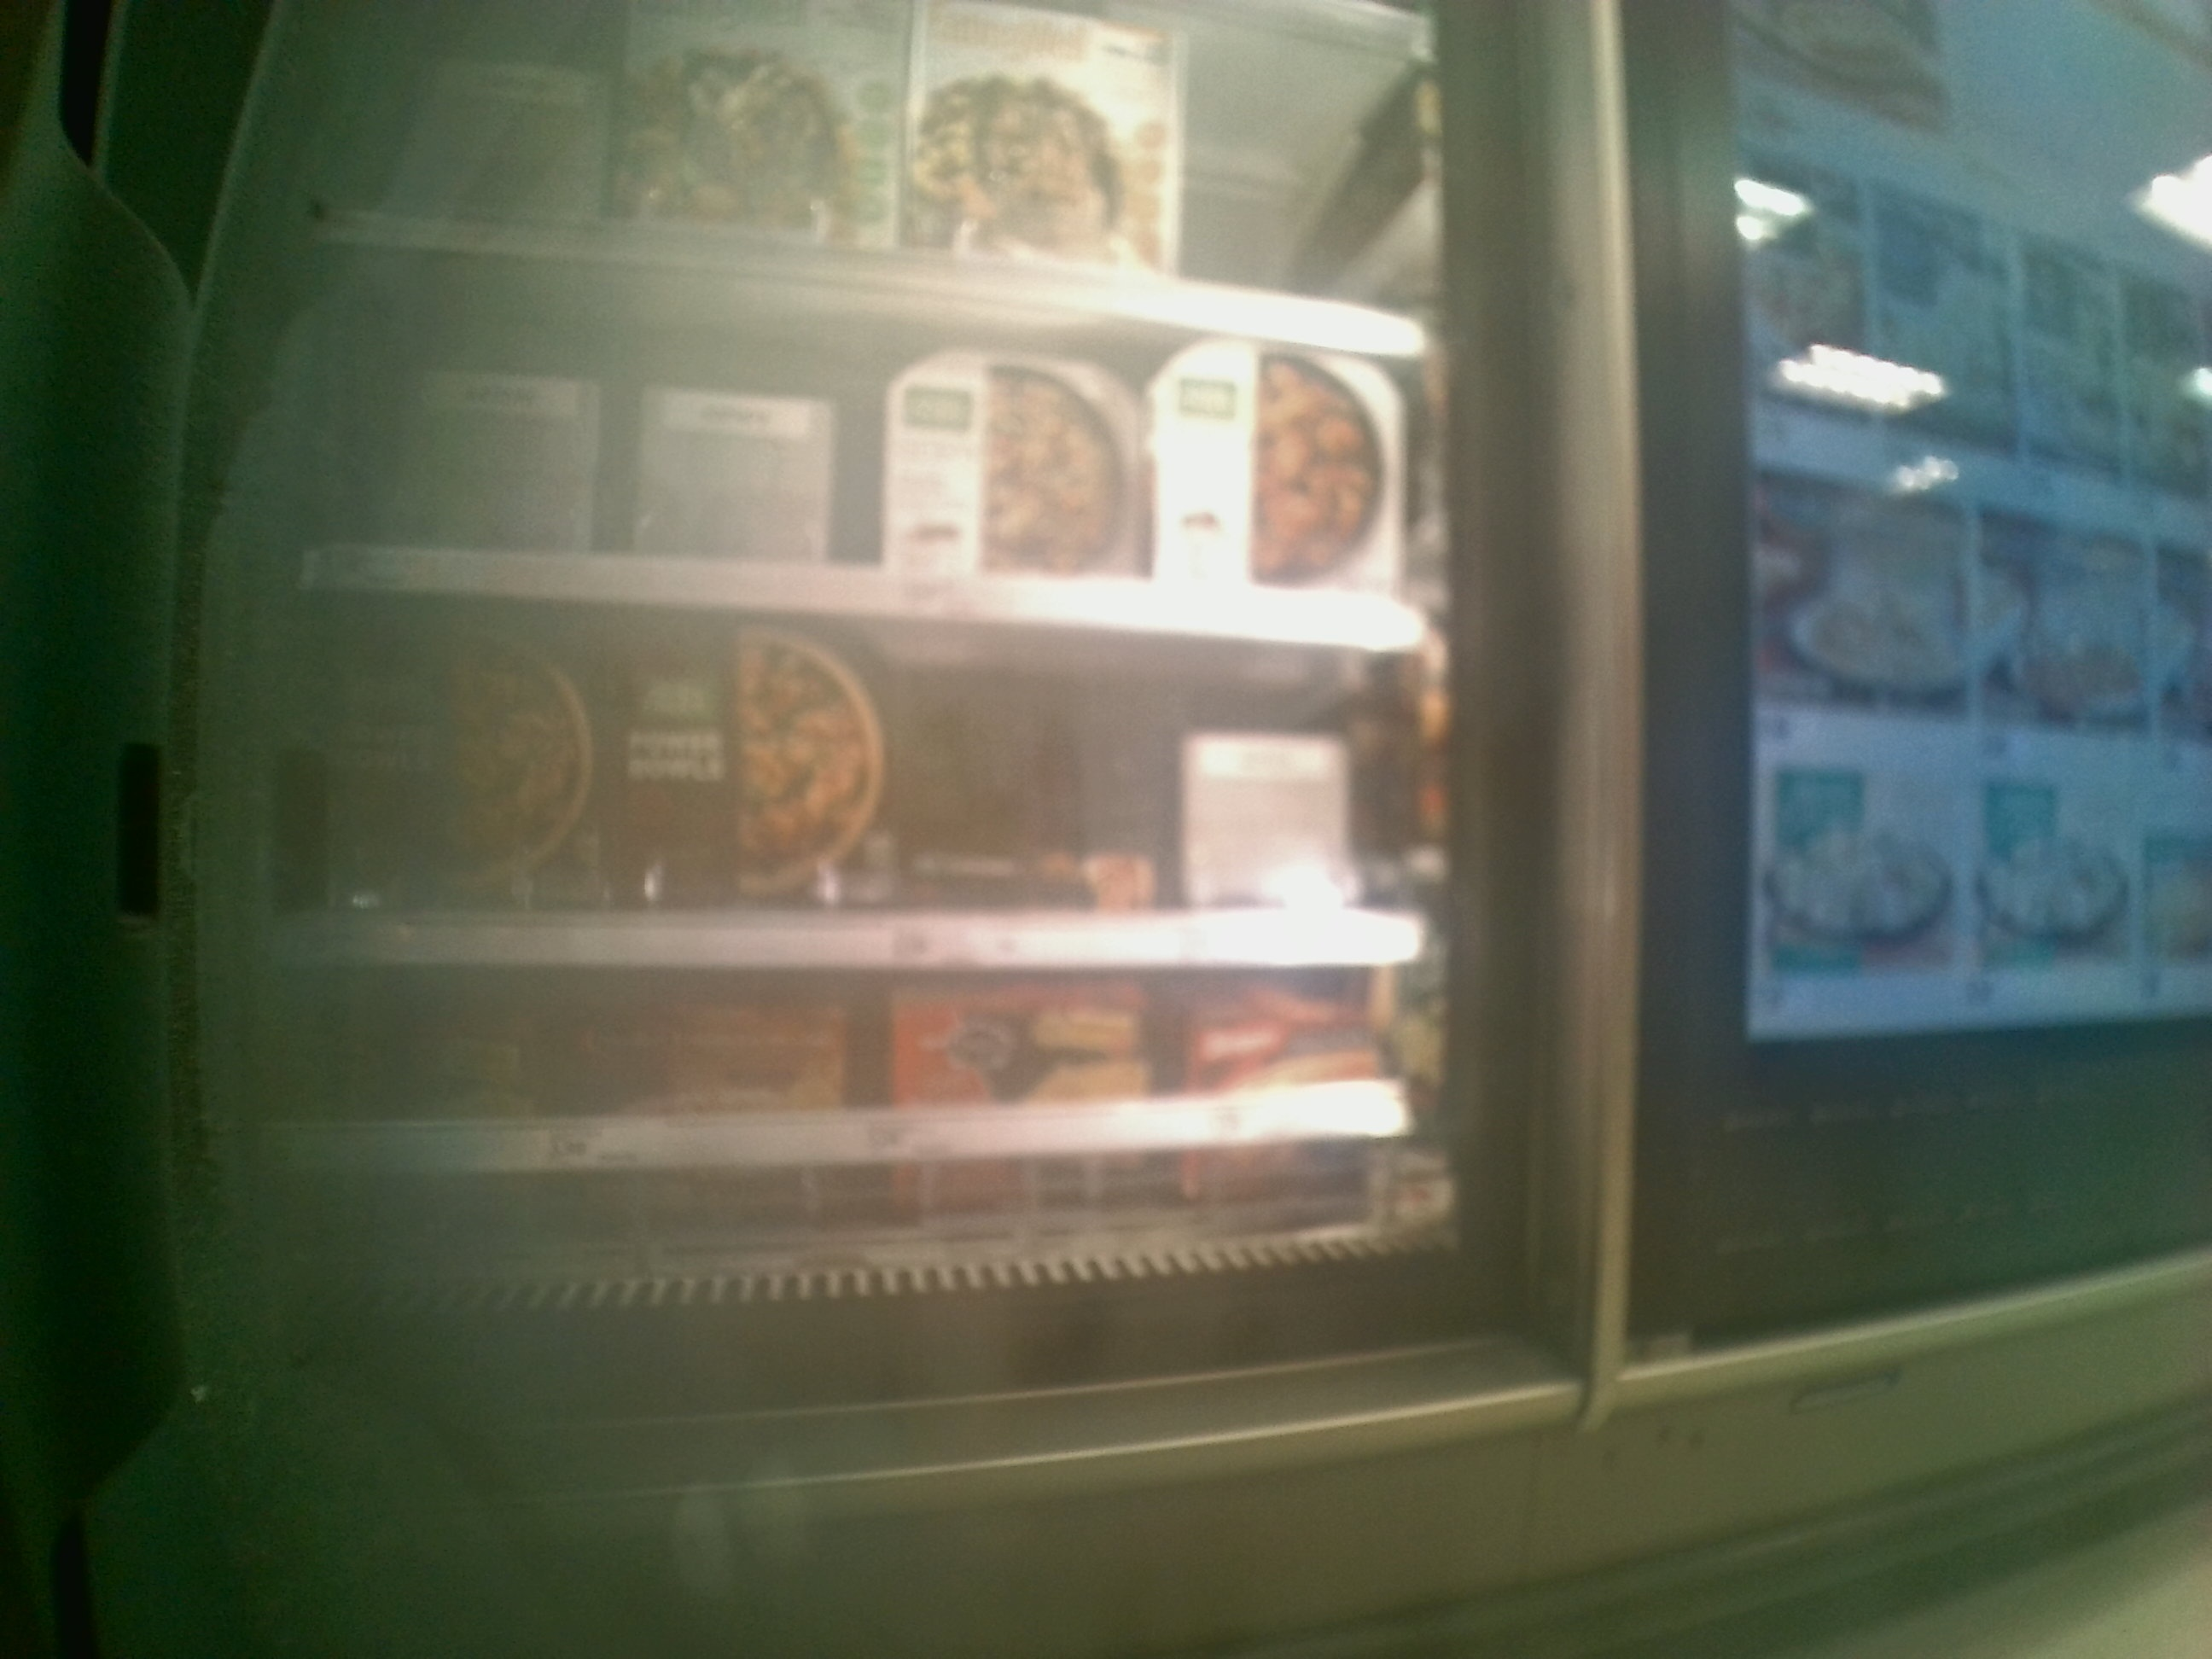shelf: (279, 586, 1428, 974), (270, 967, 1470, 1269)
